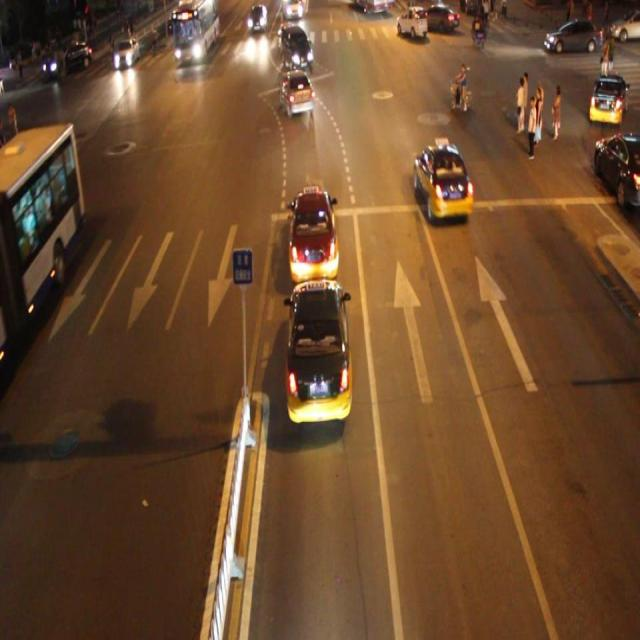car: (285, 276, 352, 420), (287, 188, 339, 284), (412, 142, 473, 220), (279, 70, 314, 117), (280, 28, 314, 75)
van: (1, 124, 85, 356)
